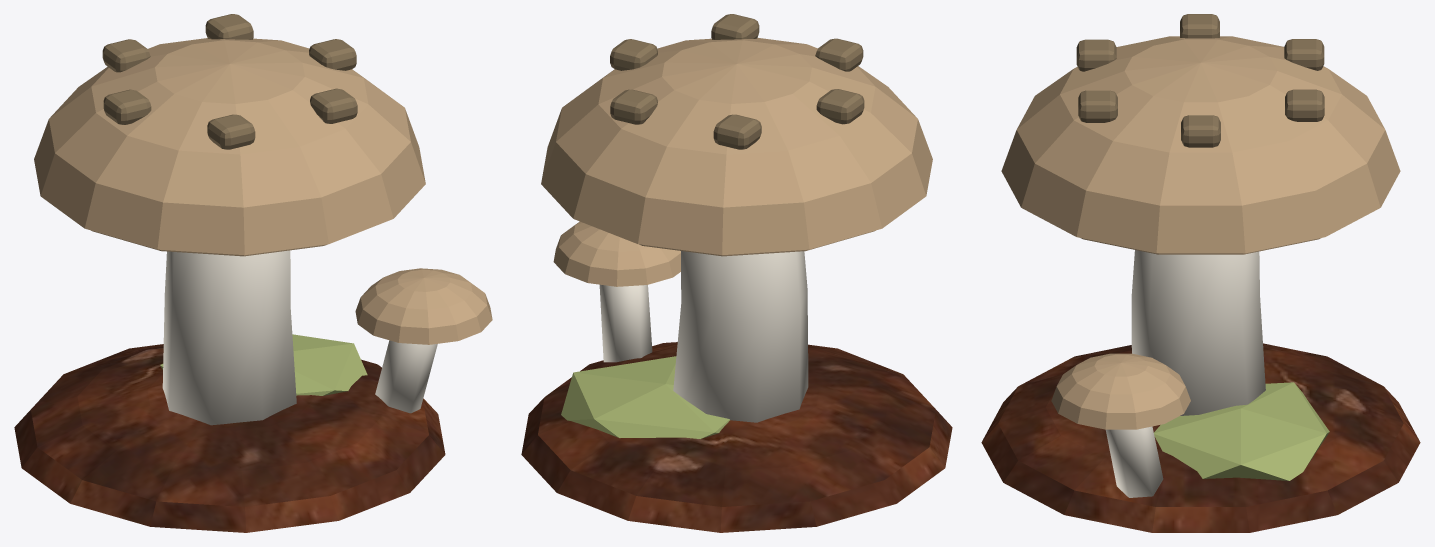
Rendered from hollowcap.glb.
The picture shows the model from 3 angles, left to right: view 1: azimuth 30°, elevation 25°; view 2: azimuth 150°, elevation 25°; view 3: azimuth 270°, elevation 25°; orthographic projection.
Visible parts, largest first — view 1: model; view 2: model; view 3: model.
Part boxes in pixels (x1=…): model: x1=14, y1=14, x2=492, y2=532; model: x1=521, y1=14, x2=952, y2=532; model: x1=981, y1=14, x2=1420, y2=532.
Bounding box in the file's own units: 0.2314 × 0.21 × 0.22.
6 materials, 1 textured.
